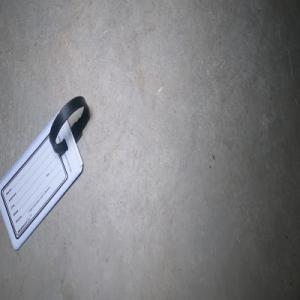LuggageTag: (0, 94, 90, 251)
